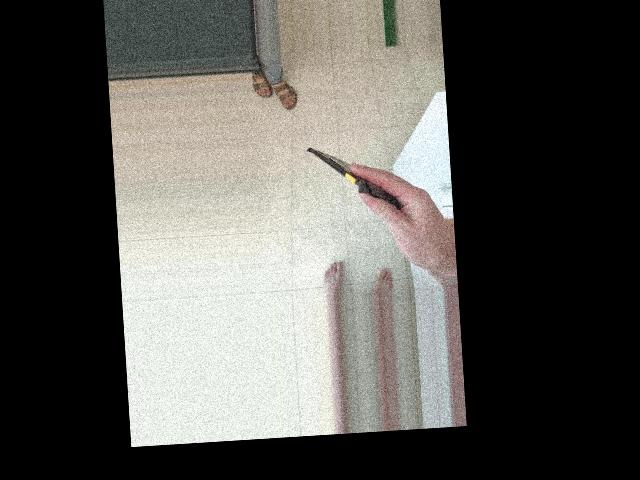chocolate: (265, 96, 349, 202)
